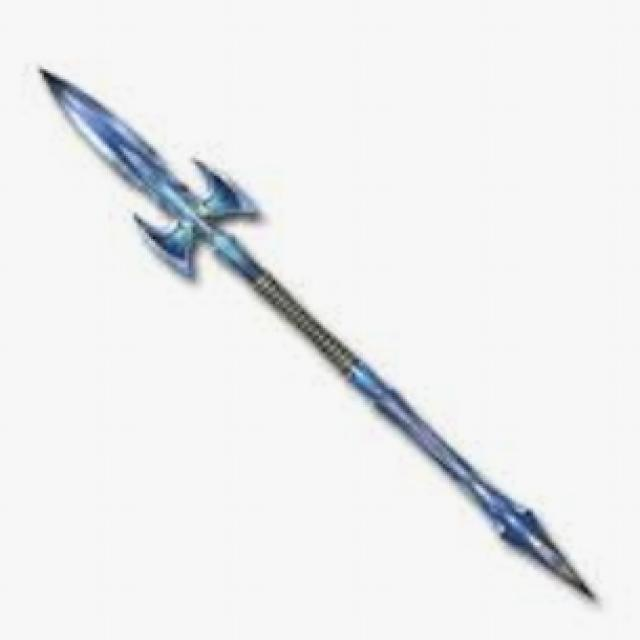spear: (21, 45, 614, 606)
